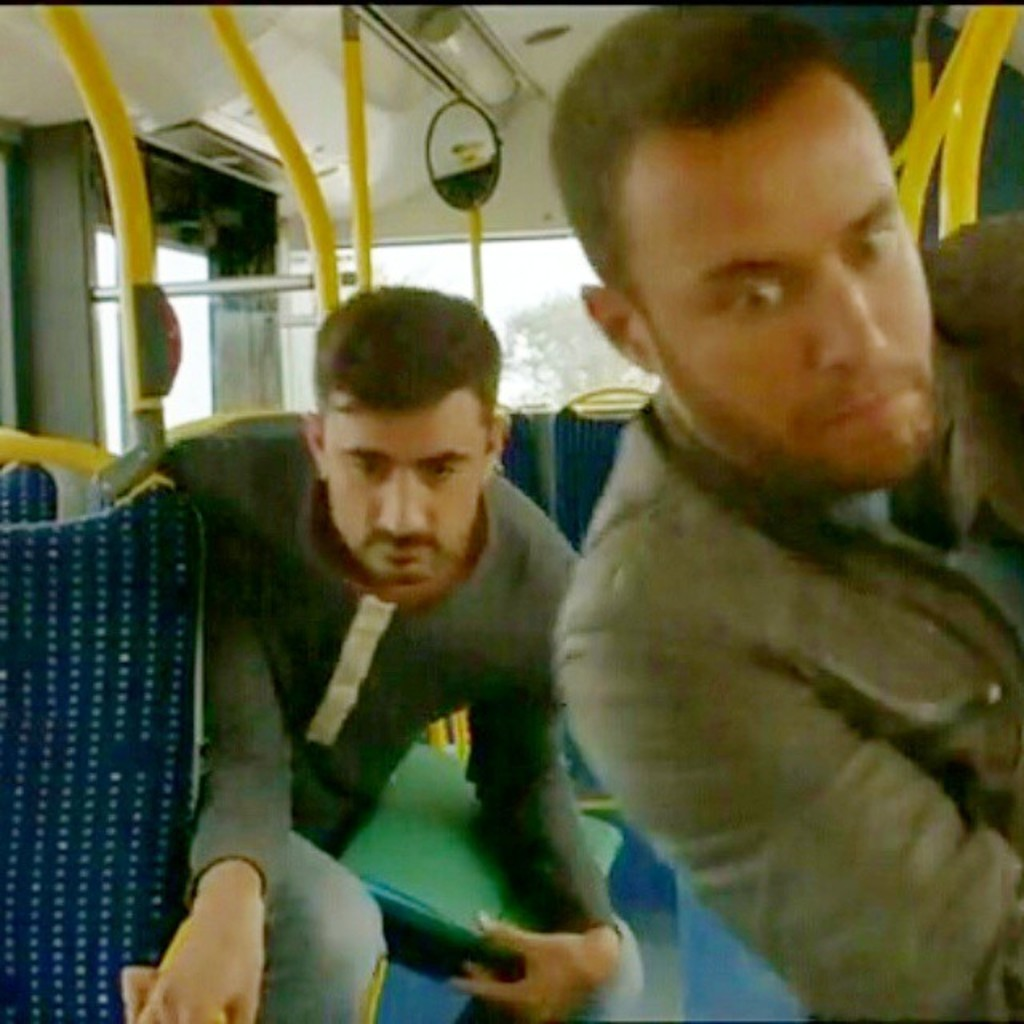Human_hand: (443, 904, 614, 1022), (147, 867, 261, 1024)
